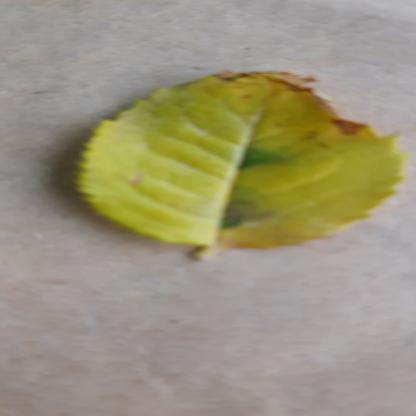black-spot: (70, 70, 408, 250)
